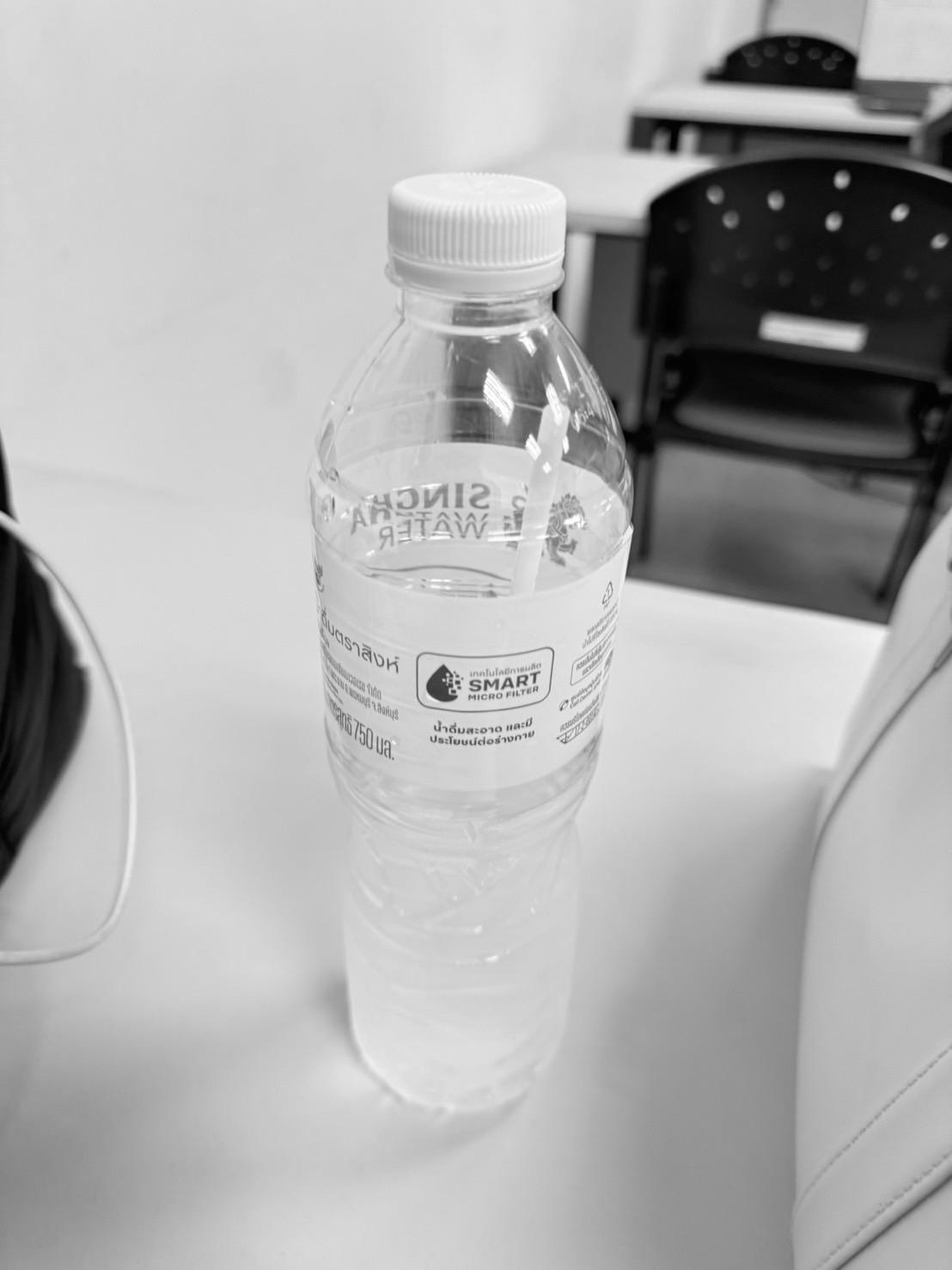bottle: (310, 174, 631, 1113)
